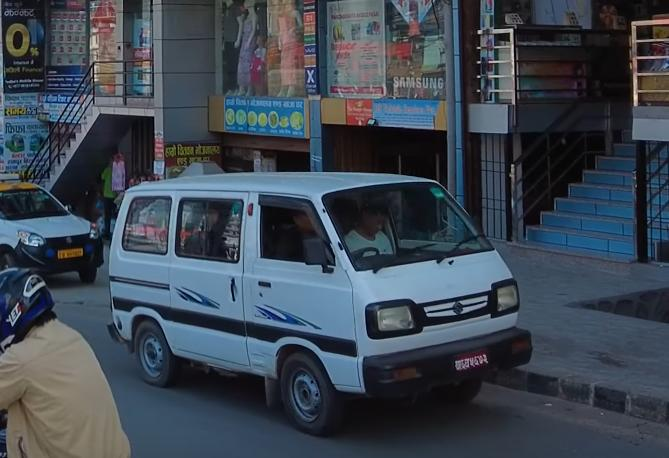taxi: (0, 172, 106, 290)
van: (106, 167, 542, 443)
